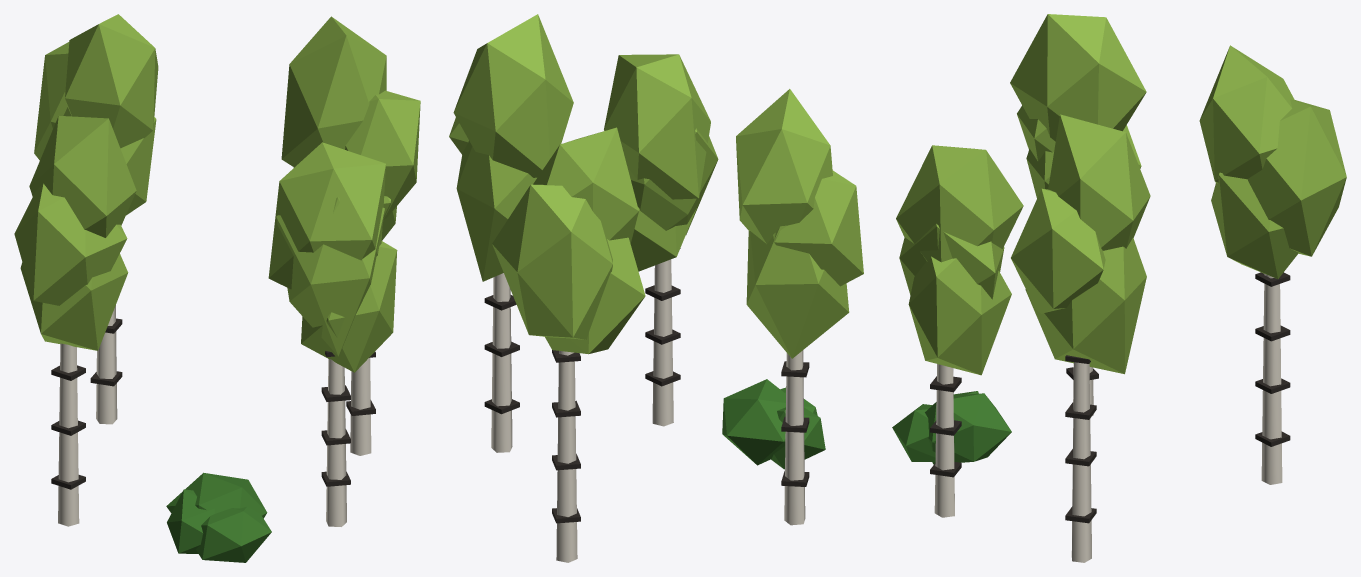
File: sawyer_birch_copse_d.glb
The picture shows the model from 3 angles, left to right: view 1: azimuth 30°, elevation 25°; view 2: azimuth 150°, elevation 25°; view 3: azimuth 270°, elevation 25°; orthographic projection.
Parts seen in each view (by area): view 1: birch_3_crown2, birch_1_crown2, birch_0_crown2, birch_2_crown2, birch_2_crown1, birch_3_crown1, birch_1_crown1, birch_3_crown0, birch_2_crown0, birch_2_trunk, bush_4_leaves1, birch_3_trunk (+6 smaller); view 2: birch_0_crown1, birch_1_crown2, birch_3_crown2, birch_2_crown2, birch_2_crown0, birch_0_crown2, birch_2_crown1, birch_1_crown0, birch_0_crown0, bush_4_leaves2, birch_0_trunk, birch_1_trunk (+5 smaller); view 3: birch_2_crown2, birch_3_crown2, birch_0_crown1, birch_1_crown2, birch_0_crown2, birch_3_crown0, birch_1_crown0, birch_1_crown1, birch_0_crown0, birch_0_trunk, birch_1_trunk, bush_4_leaves2 (+5 smaller).
Part boxes in pixels (x1,y1,x2,y2): birch_3_crown2: (268,142,385,289); birch_1_crown2: (281,16,386,167); birch_0_crown2: (65,14,158,148); birch_2_crown2: (29,116,136,237); birch_2_crown1: (14,183,127,305); birch_3_crown1: (276,197,384,356); birch_1_crown1: (345,90,420,219); birch_3_crown0: (301,241,397,372); birch_2_crown0: (20,253,128,350); birch_2_trunk: (58,343,79,526); bush_4_leaves1: (196,507,271,562); birch_3_trunk: (326,359,346,526); birch_0_crown1: (492,184,612,339); birch_1_crown2: (453,14,573,177); birch_3_crown2: (604,54,710,199); birch_2_crown2: (736,89,832,243); birch_2_crown0: (746,225,849,358); birch_0_crown2: (533,127,638,243); birch_2_crown1: (773,170,863,286); birch_1_crown0: (456,140,536,281); birch_0_crown0: (545,237,645,354); bush_4_leaves2: (722,379,785,465); birch_0_trunk: (556,351,577,562); birch_1_trunk: (491,273,512,452); birch_2_crown2: (1010,14,1146,141); birch_3_crown2: (896,145,1023,262); birch_0_crown1: (1248,99,1346,256); birch_1_crown2: (1048,114,1150,250); birch_0_crown2: (1199,45,1294,183); birch_3_crown0: (908,256,1011,375); birch_1_crown0: (1025,237,1146,374); birch_1_crown1: (1011,188,1105,313); birch_0_crown0: (1211,172,1298,278); birch_0_trunk: (1261,274,1282,484); birch_1_trunk: (1071,362,1091,562); bush_4_leaves2: (925,393,1011,464).
Bounding box in the file's own units: 3.62 × 3.84 × 3.65.
